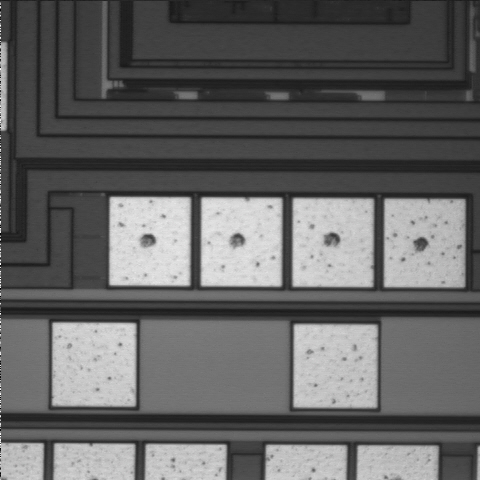pad: (201, 198, 282, 286), (110, 197, 190, 286), (293, 199, 373, 287), (385, 199, 464, 287), (53, 323, 136, 406), (294, 325, 377, 407)
